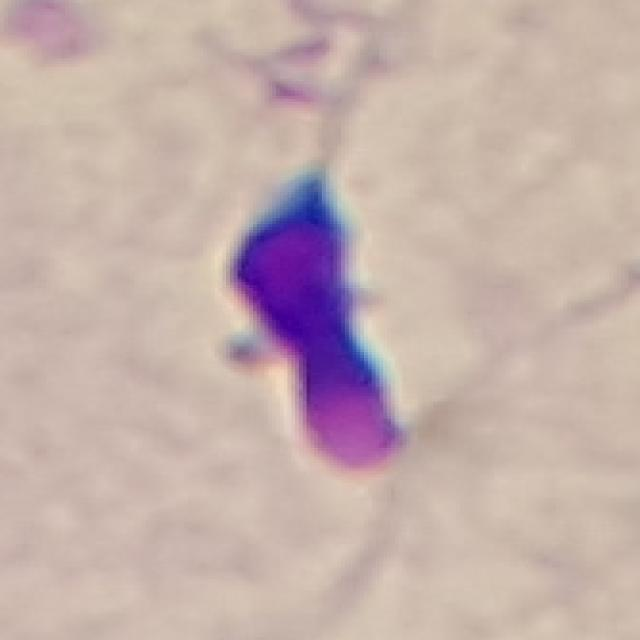abnormal sperm: (213, 85, 406, 472)
